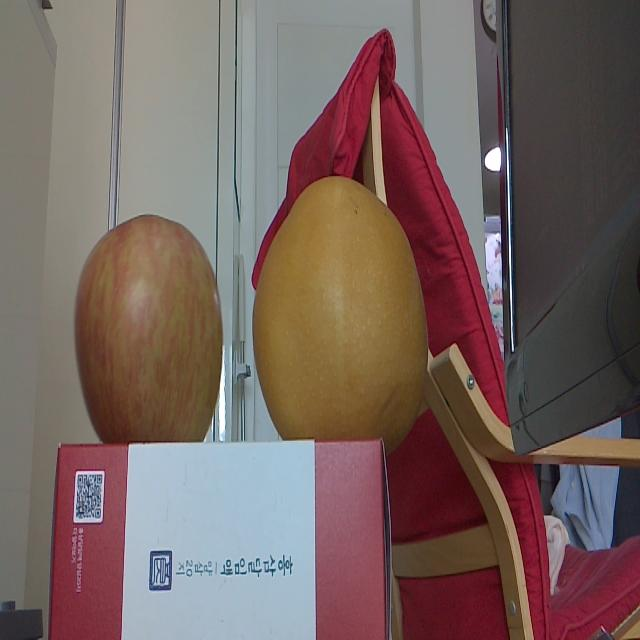apple: (76, 214, 222, 442)
pear: (253, 178, 428, 451)
